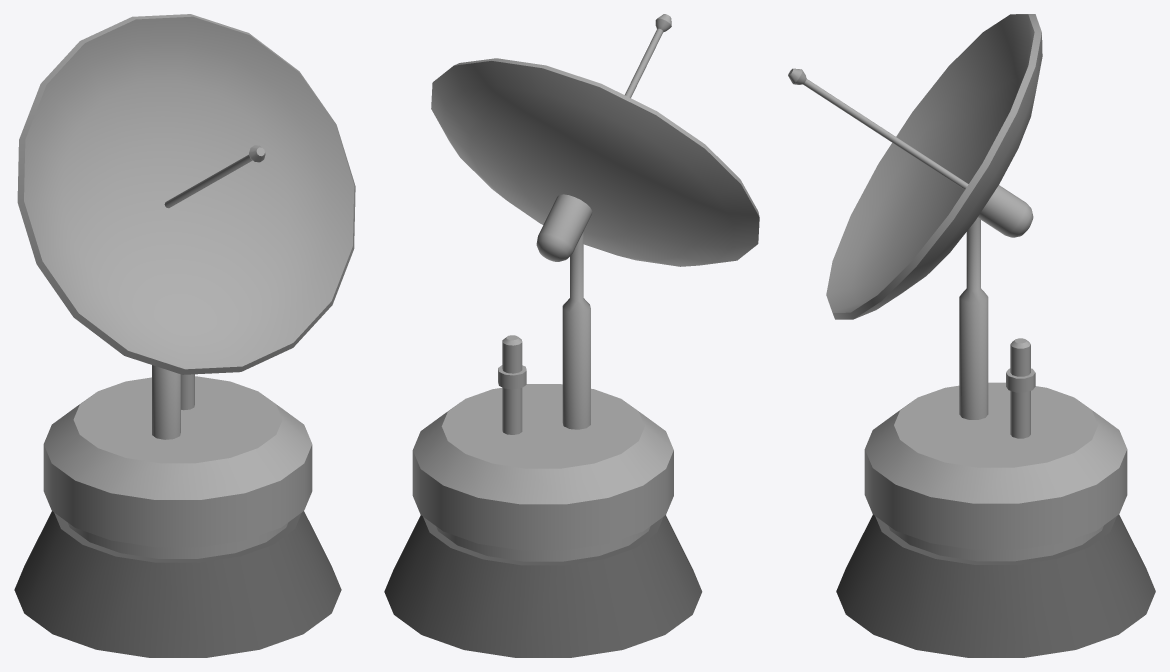
File: radar_dish.obj
3 views of the same model, side by side, from view 1: azimuth 30°, elevation 25°; view 2: azimuth 150°, elevation 25°; view 3: azimuth 270°, elevation 25° (orthographic). The views are drawn at different scales.
Parts seen in each view (by area): view 1: Roof_Radar; view 2: Roof_Radar; view 3: Roof_Radar.
Boxes of the visible parts, bbox=[...] form: Roof_Radar: bbox=[14, 14, 355, 657]; Roof_Radar: bbox=[384, 14, 759, 657]; Roof_Radar: bbox=[788, 14, 1155, 657].
Size of the model in its own units: 1.63 by 2.71 by 1.65.
1 material, 1 textured.
